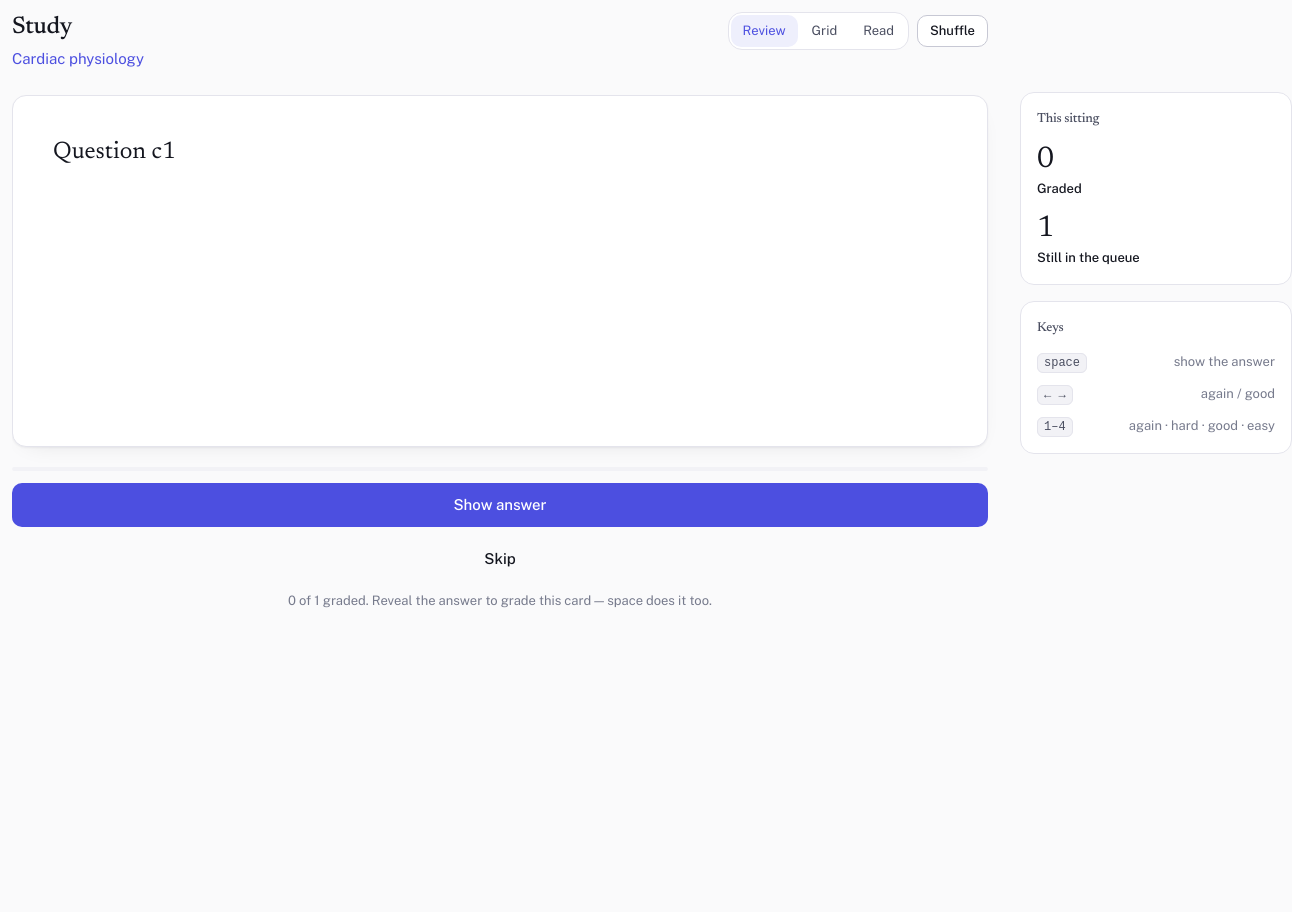
Test case: StudySession continuation › carries on into the next page instead of ending early
Click the button "Show answer": {"x": 500, "y": 505} [12,483,988,527]
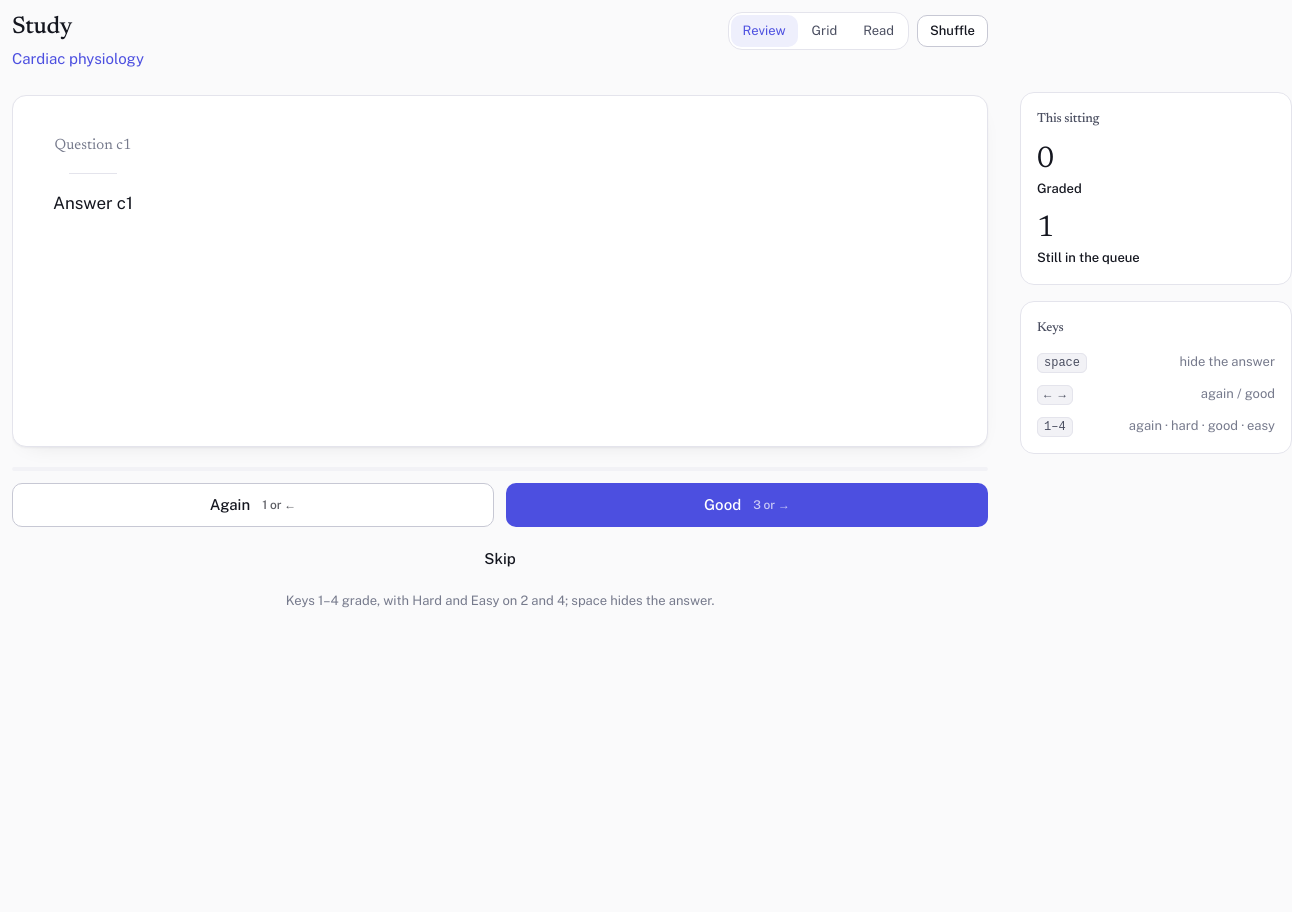
Click the button "Good 3 or →": {"x": 723, "y": 505} [506,483,988,527]
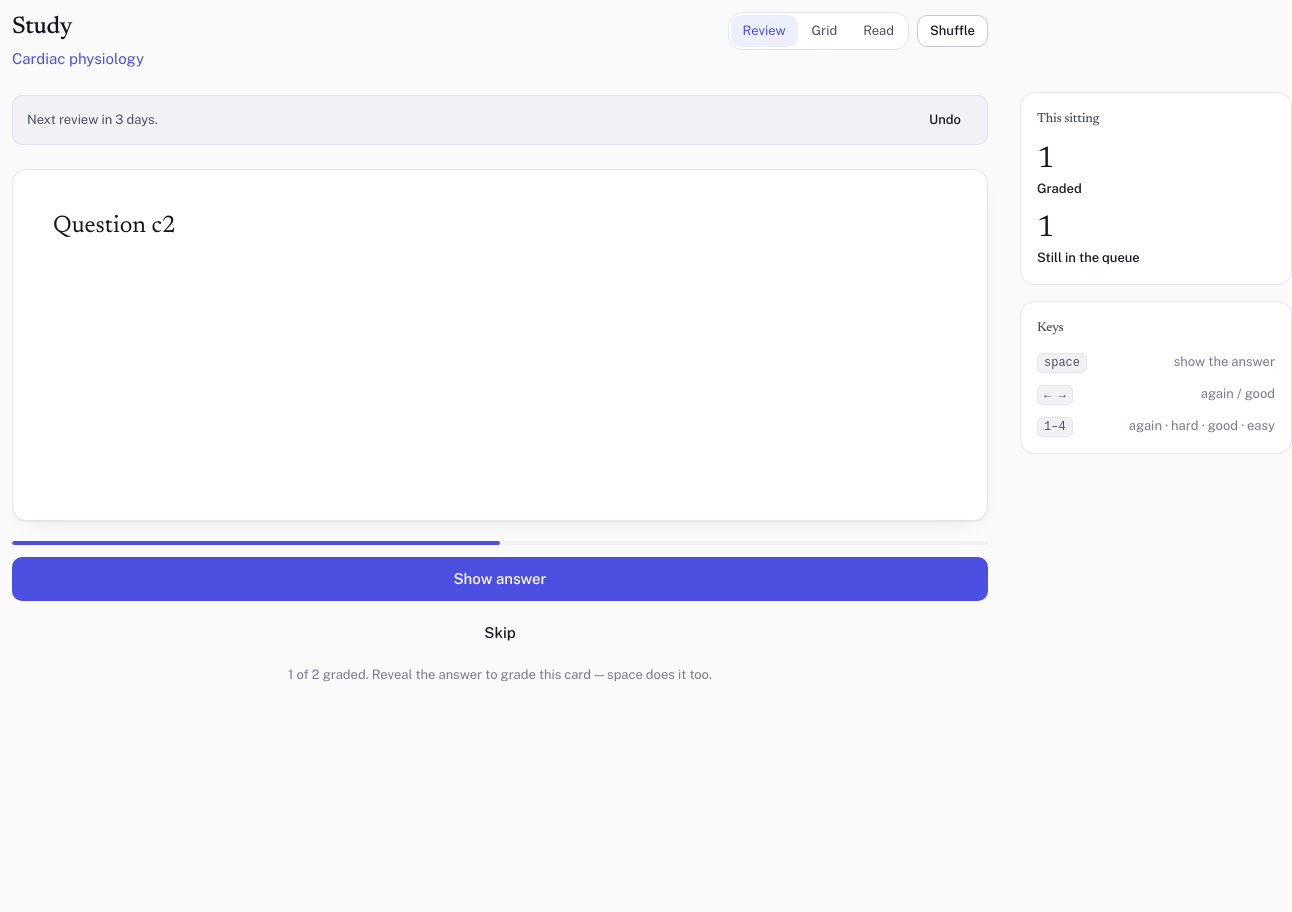
Expected: the text "Question c2" is shown, [53,210,176,243]
